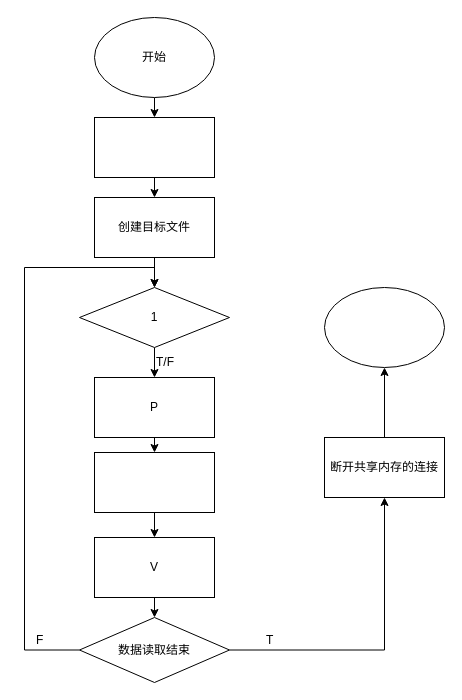
This 462x700 diagram has some shape labels left out. Here are the shapes that lost their labels. From the top down, the centre of each, then its label:
the point at 154,147: 获取main中创建的共享内存组并建立数组形式的环形缓冲和信号灯
the point at 384,327: 结束
the point at 154,482: 取缓冲区数据、写入目标文件、移动环形缓冲区指针
